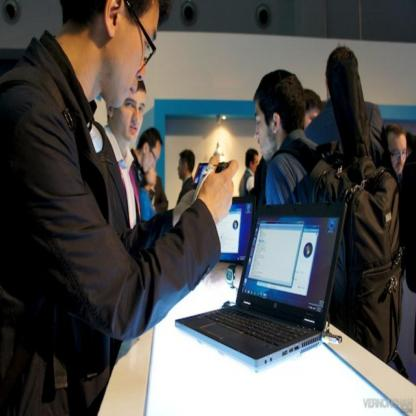board: (186, 200, 342, 376), (216, 196, 254, 264)
